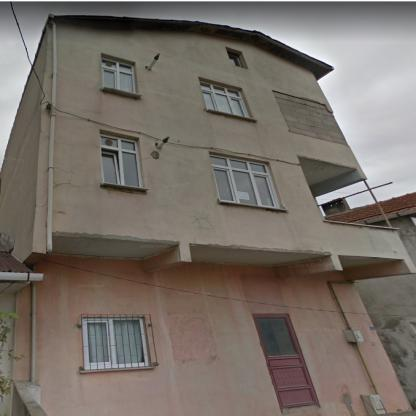door: (253, 315, 317, 406)
window: (211, 156, 276, 207), (86, 318, 146, 367), (100, 134, 140, 187), (200, 81, 246, 117), (102, 58, 134, 92), (228, 53, 242, 67)
